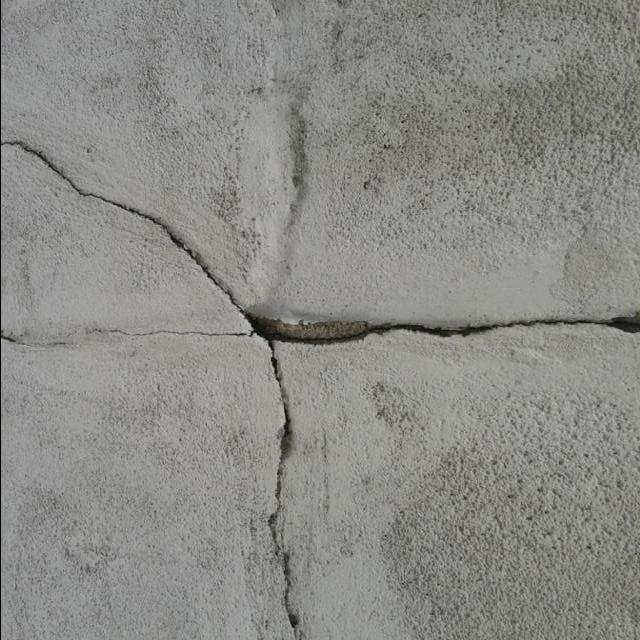SurfaceCrack: (0, 125, 639, 399), (228, 322, 356, 640)
